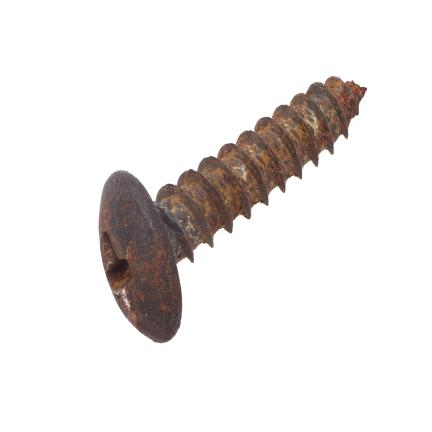karat: (99, 77, 366, 342)
